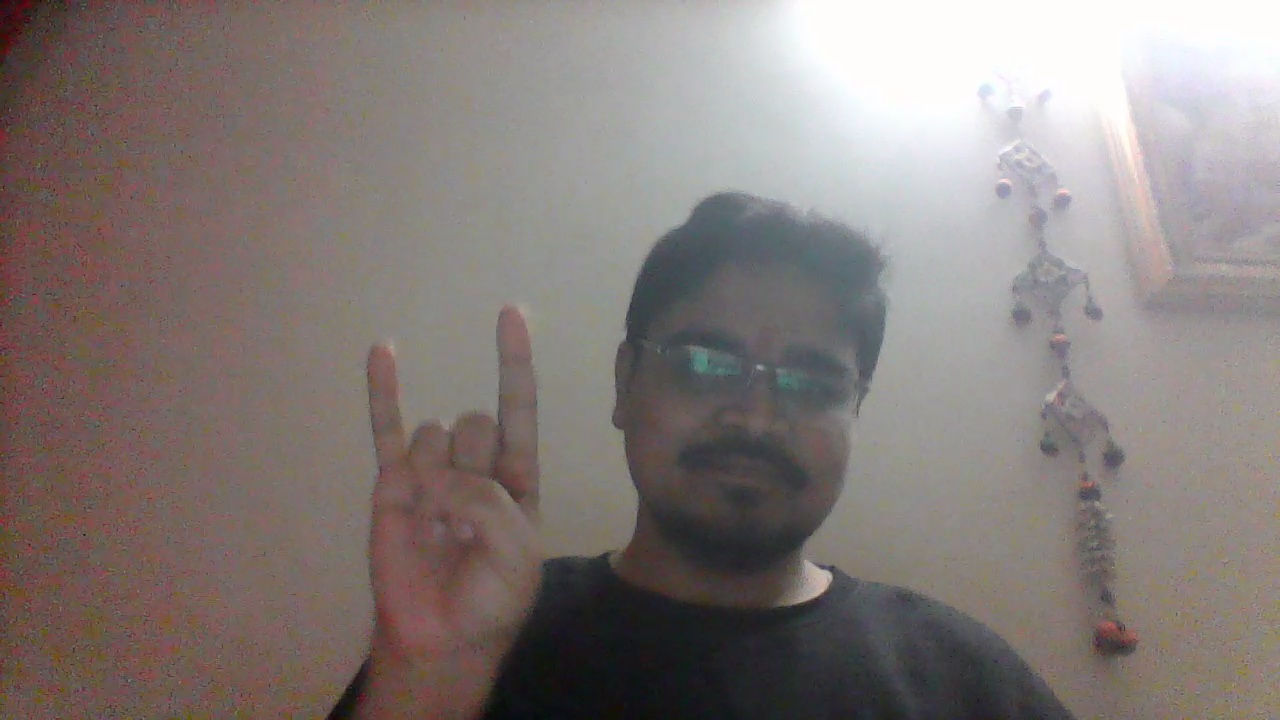ILoveYou: (345, 302, 558, 700)
